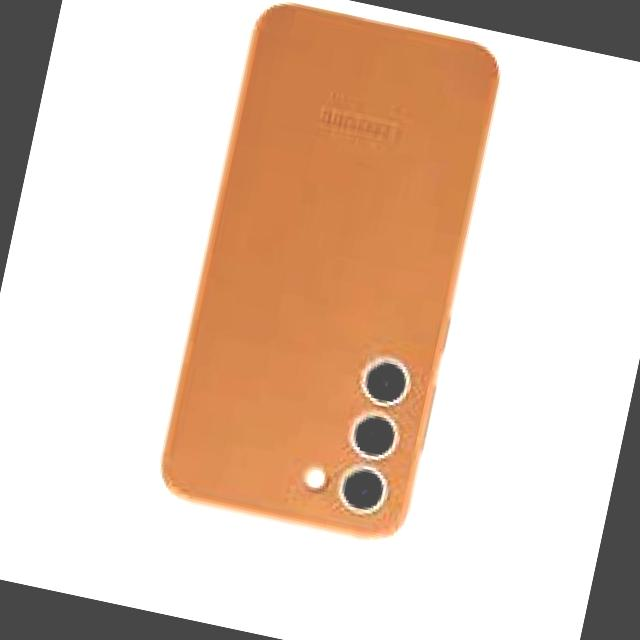lens_back: (352, 346, 416, 411), (342, 403, 406, 465), (333, 458, 393, 518)
phone: (150, 0, 506, 550)
